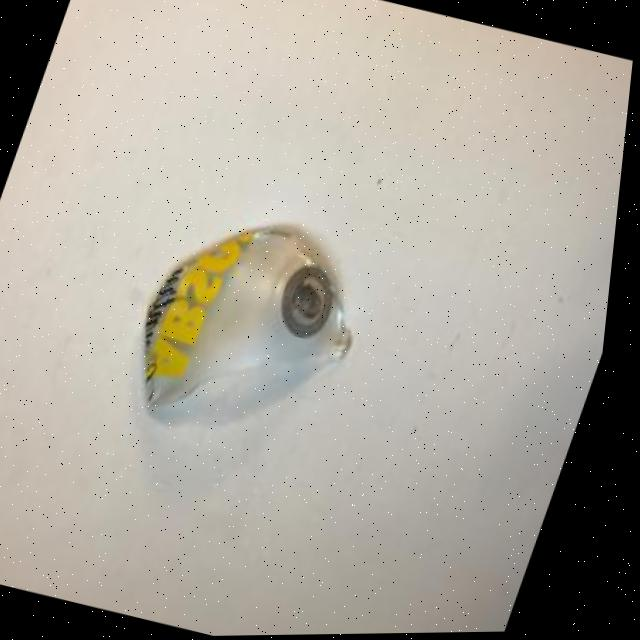glass: (104, 186, 411, 466)
